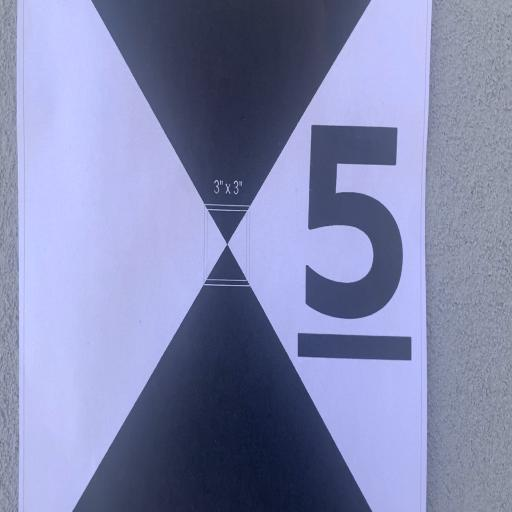target5: (18, 2, 428, 506)
